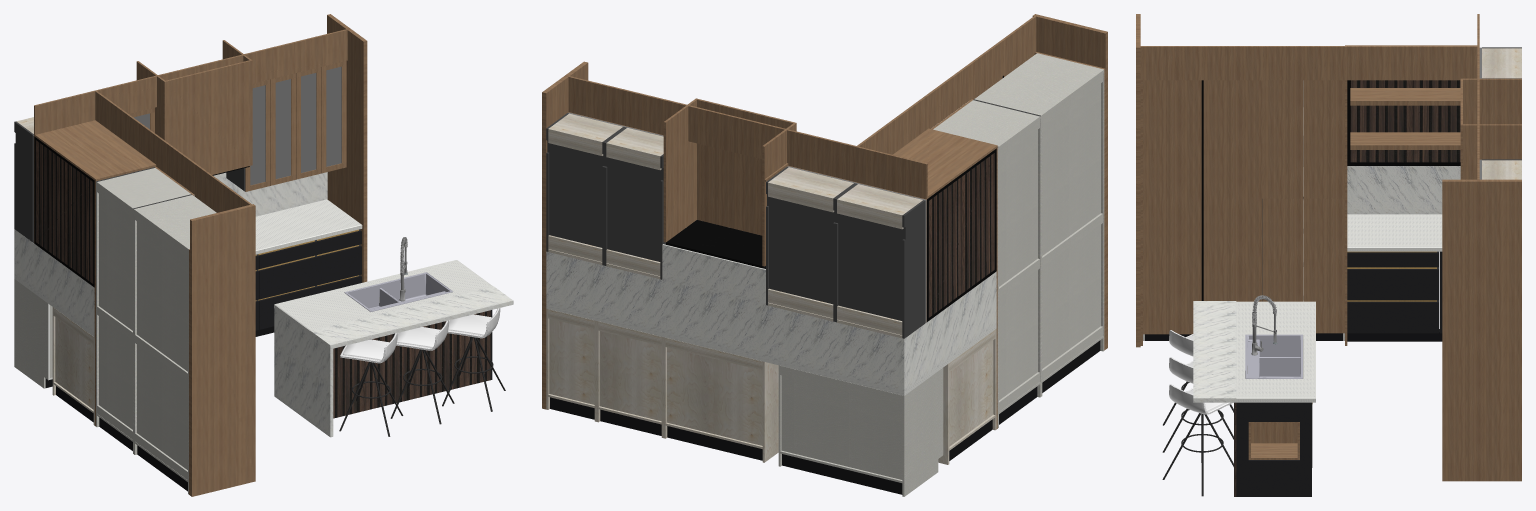
The model's file is showroom-kitchen.glb.
3 views of the same model, side by side, from view 1: azimuth 30°, elevation 25°; view 2: azimuth 150°, elevation 25°; view 3: azimuth 270°, elevation 25° (orthographic). The views are drawn at different scales.
Parts seen in each view (by area): view 1: showroom-kitchen.001, mv_showroom-kitchen_016, mv_showroom-kitchen_028, mv_showroom-kitchen_026, mv_showroom-kitchen_027, mv_showroom-kitchen_025, mv_showroom-kitchen_013, mv_showroom-kitchen_015, mv_showroom-kitchen_017, mv_showroom-kitchen_012; view 2: showroom-kitchen.001; view 3: showroom-kitchen.001, mv_showroom-kitchen_002, mv_showroom-kitchen_003, mv_showroom-kitchen_004, mv_showroom-kitchen_001, mv_showroom-kitchen_020, mv_showroom-kitchen_019, mv_showroom-kitchen_018.
Part boxes in pixels (left/top/right/bottom): showroom-kitchen.001: left=14, top=14, right=513, bottom=496; mv_showroom-kitchen_016: left=258, top=256, right=317, bottom=299; mv_showroom-kitchen_028: left=326, top=66, right=341, bottom=166; mv_showroom-kitchen_026: left=275, top=79, right=290, bottom=178; mv_showroom-kitchen_027: left=301, top=73, right=316, bottom=172; mv_showroom-kitchen_025: left=244, top=85, right=265, bottom=191; mv_showroom-kitchen_013: left=317, top=245, right=361, bottom=284; mv_showroom-kitchen_015: left=258, top=241, right=317, bottom=268; mv_showroom-kitchen_017: left=258, top=286, right=317, bottom=329; mv_showroom-kitchen_012: left=317, top=230, right=361, bottom=254; showroom-kitchen.001: left=542, top=14, right=1107, bottom=496; showroom-kitchen.001: left=1136, top=14, right=1521, bottom=496; mv_showroom-kitchen_002: left=1304, top=198, right=1344, bottom=333; mv_showroom-kitchen_003: left=1262, top=80, right=1303, bottom=198; mv_showroom-kitchen_004: left=1304, top=80, right=1344, bottom=198; mv_showroom-kitchen_001: left=1262, top=198, right=1303, bottom=301; mv_showroom-kitchen_020: left=1347, top=301, right=1438, bottom=333; mv_showroom-kitchen_019: left=1347, top=269, right=1438, bottom=300; mv_showroom-kitchen_018: left=1347, top=252, right=1438, bottom=267.
Size of the model in its own units: 3.62 by 2.74 by 3.2.
Materials: 22 (16 with a texture image).
